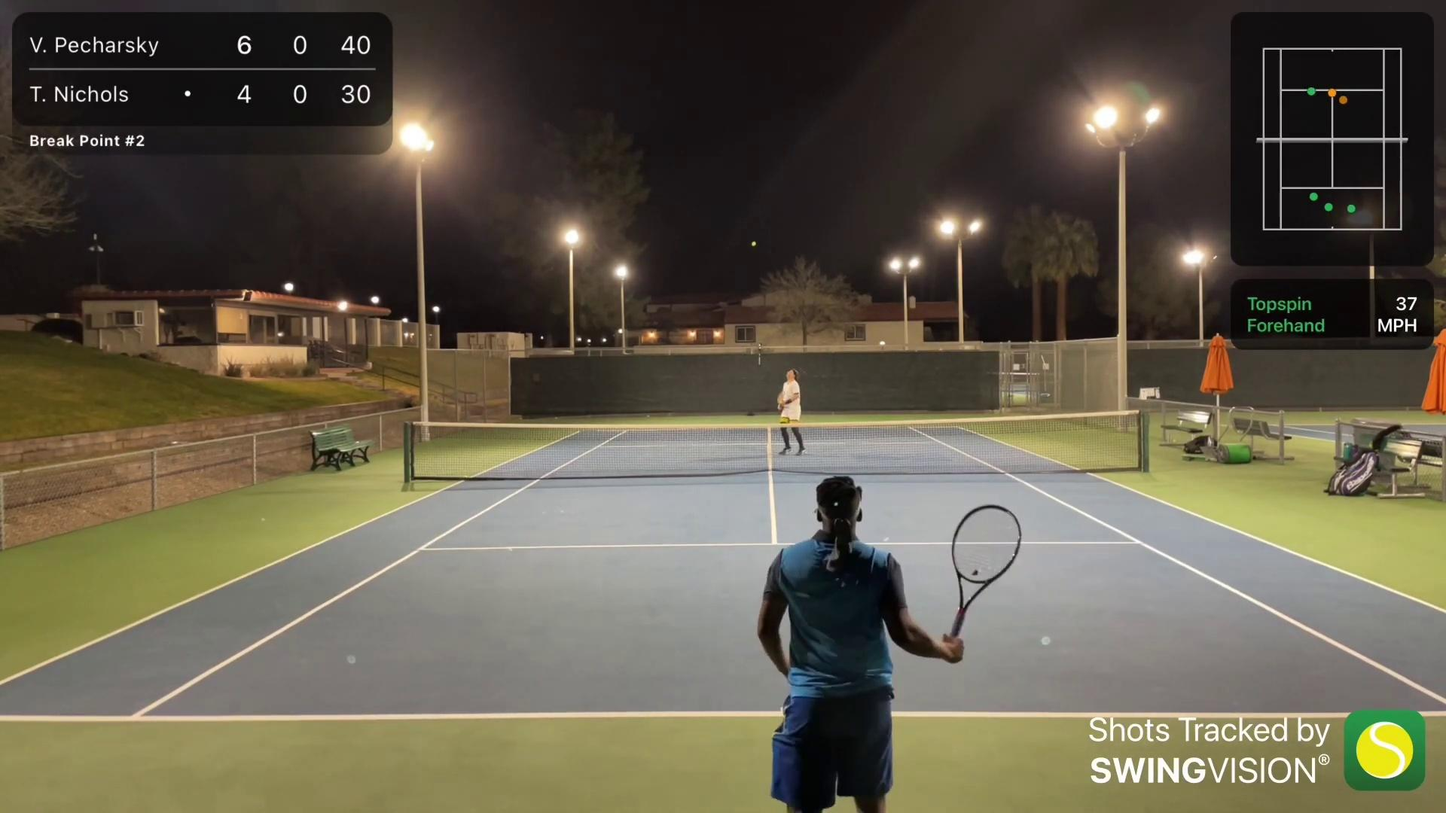ball: (752, 242, 755, 247)
